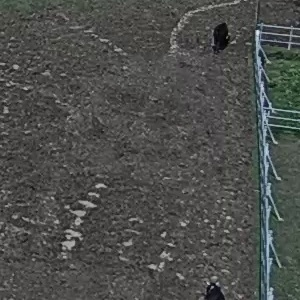cow: (205, 18, 239, 60), (188, 269, 232, 300)
